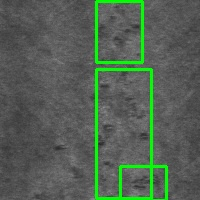rolled-in_scale: (96, 69, 151, 198), (96, 1, 142, 62), (120, 166, 166, 200)
